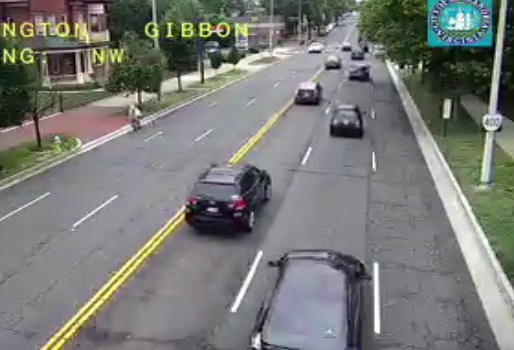car: (252, 250, 365, 350), (186, 167, 271, 229), (330, 106, 362, 133), (295, 82, 320, 104)
